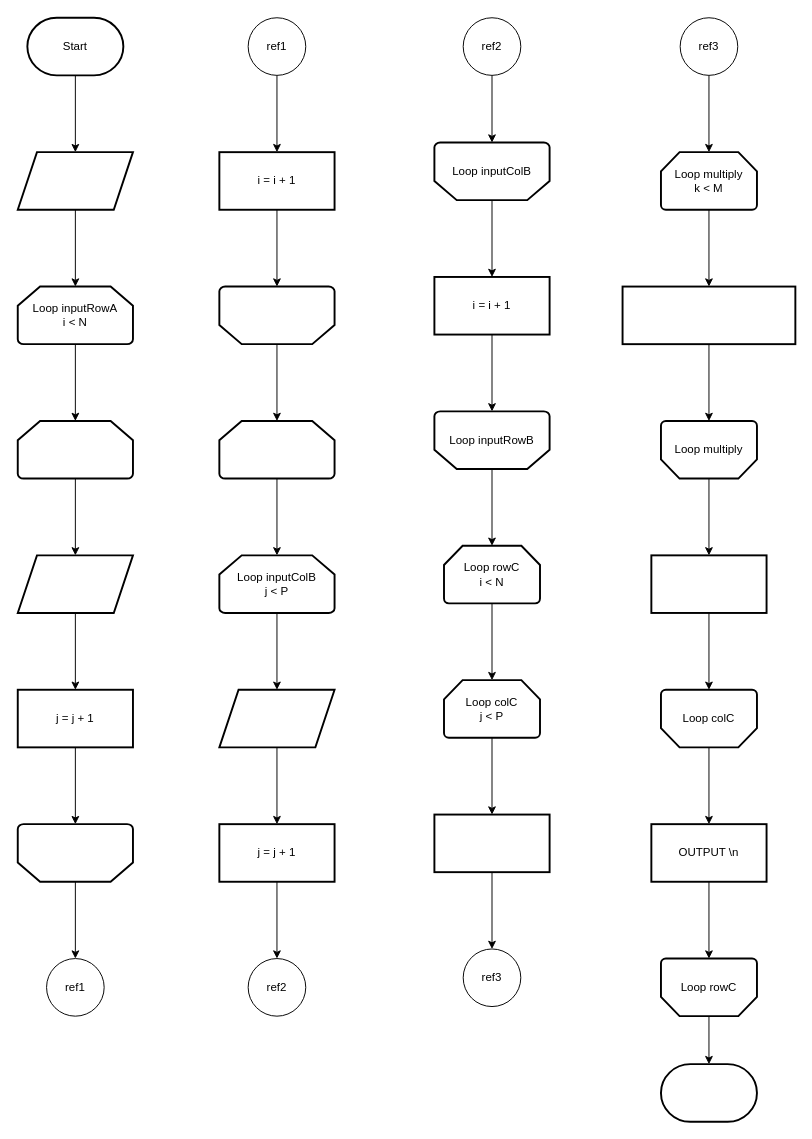
The diagram is 812 pixels wide and 1139 high, and some of its shapes have lost their labels. Here are the shapes that lost their labels. From the top down, the centre of each, then its label:
point 74,180: Input N, M, P
point 276,315: Loop inputRowA
point 708,315: C[i][j] = C[i][j] + A[i][k] * B[k][j]
point 74,449: Loop inputColA j < M
point 276,449: Loop inputRowB i < M
point 74,583: Input A[i][j]
point 708,583: Output C[i][j], " "
point 276,718: Input B[i][j]
point 74,852: Loop inputColA
point 491,843: C[i][j] = 0
point 708,1092: Stop
